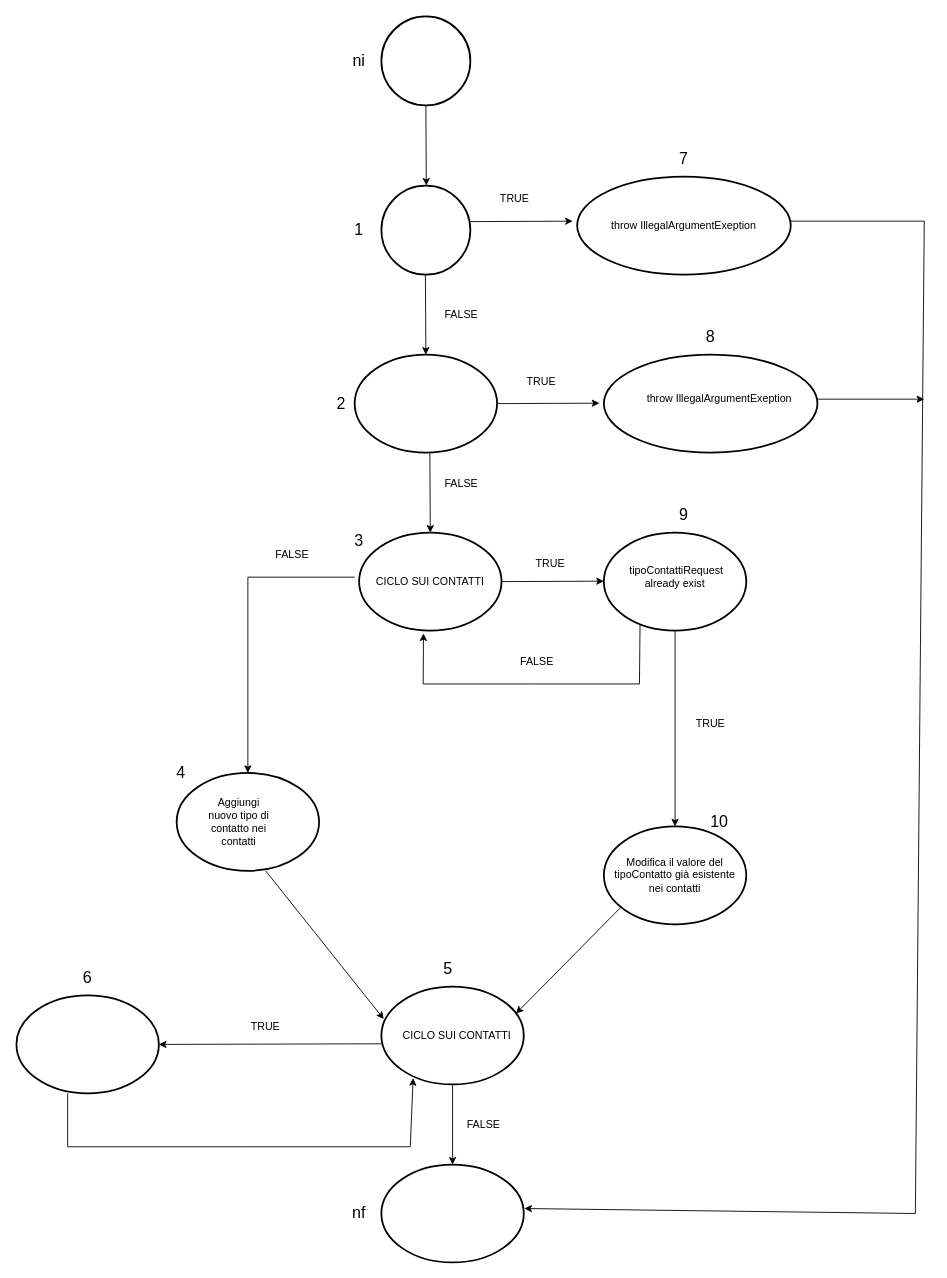
The diagram is 947 pixels wide and 1278 high, and some of its shapes have lost their labels. The shapes that lost their labels are listed below. From the top down, each one's centre as x and y in pixels, then its label:
At pixel 425 229: "IF User not exist".
At pixel 425 403: "IF datiImpiegatoByUser is NULL".
At pixel 87 1044: "Aggiungi contatto nella DTO della risposta".
